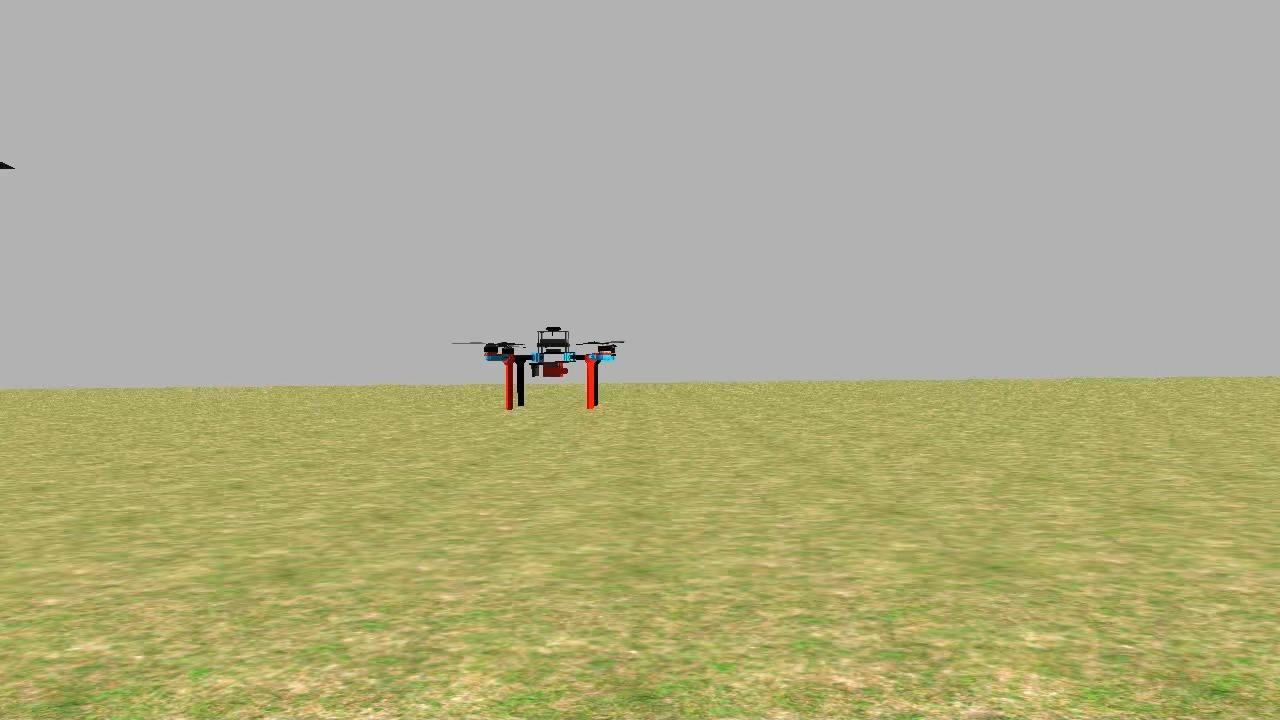UAV: (472, 319, 623, 416)
